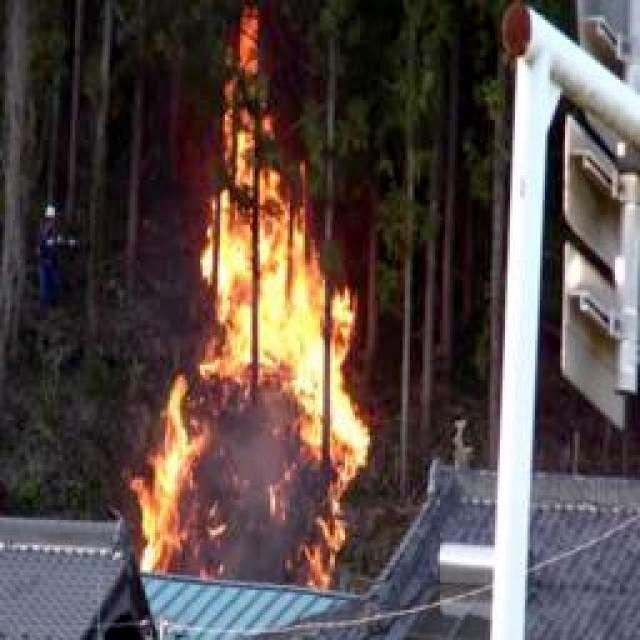fire: (140, 62, 364, 586)
